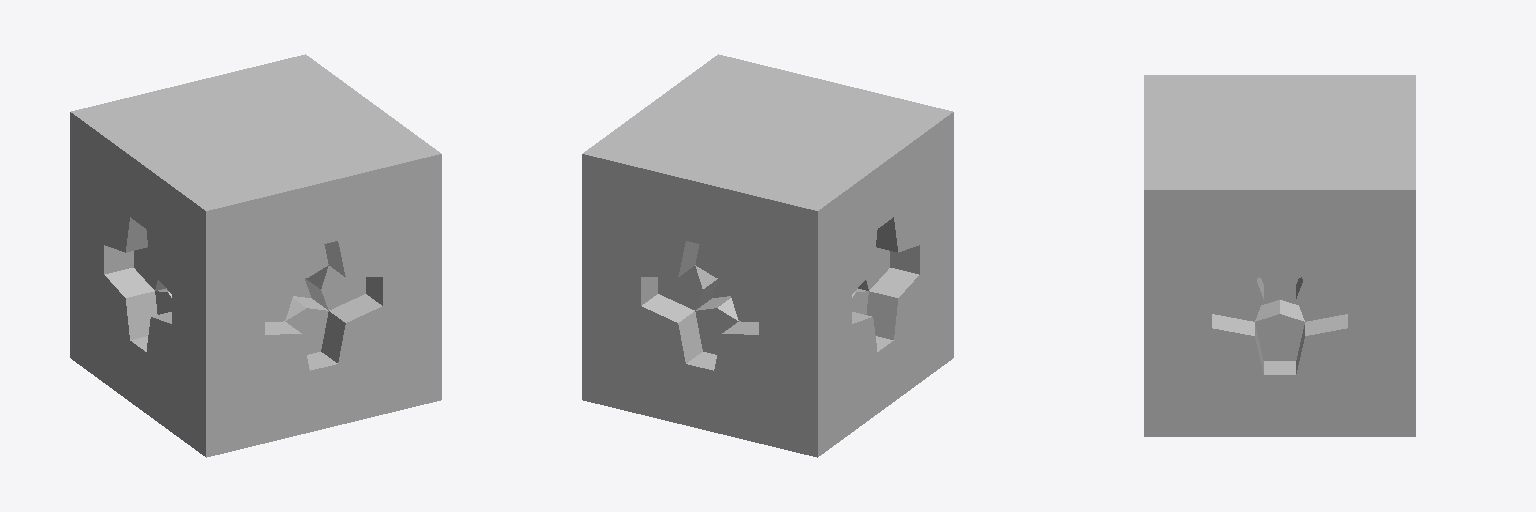
File: CrystalExtractor.obj
3 views of the same model, side by side, from view 1: azimuth 30°, elevation 25°; view 2: azimuth 150°, elevation 25°; view 3: azimuth 270°, elevation 25° (orthographic).
Parts seen in each view (by area): view 1: pCube1; view 2: pCube1; view 3: pCube1.
Boxes of the visible parts, x1=… form: pCube1: x1=70, y1=54, x2=441, y2=457; pCube1: x1=582, y1=54, x2=953, y2=457; pCube1: x1=1144, y1=75, x2=1415, y2=436.
Bounding box in the file's own units: 1 × 1 × 1.